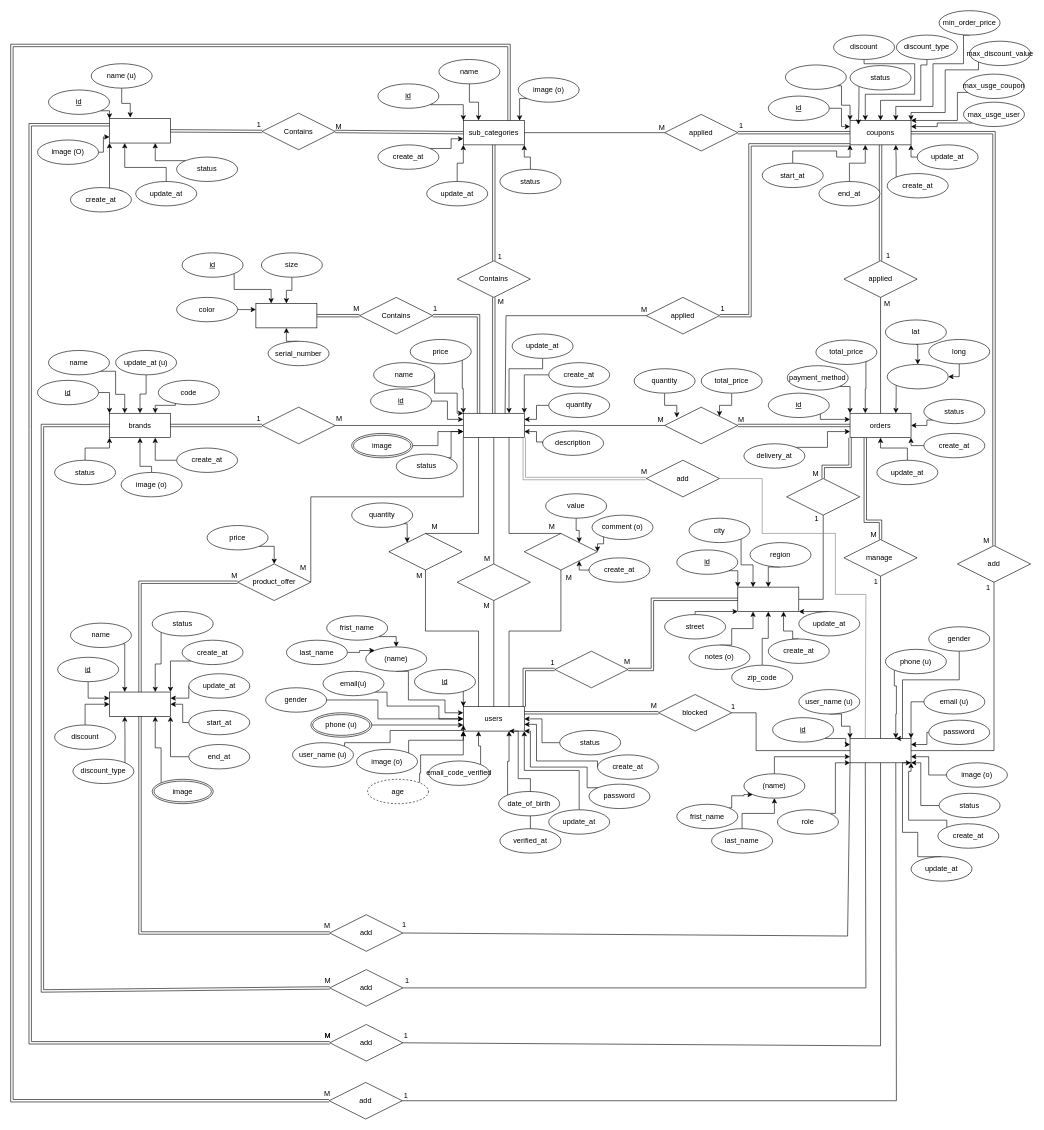
This 1044x1130 diagram has some shape labels left out. The shapes that lost their labels are listed below. From the top down, each one's centre as x and y in pixels, then its label:
[815,76]: code (u)
[139,130]: categories
[286,315]: specs
[917,376]: (location)
[298,425]: belongs_to
[493,425]: products
[701,425]: product_order
[823,496]: go
[425,551]: cart
[560,551]: reviews
[493,582]: favorite
[768,599]: addresses
[591,669]: have
[139,703]: offers
[880,750]: admins
